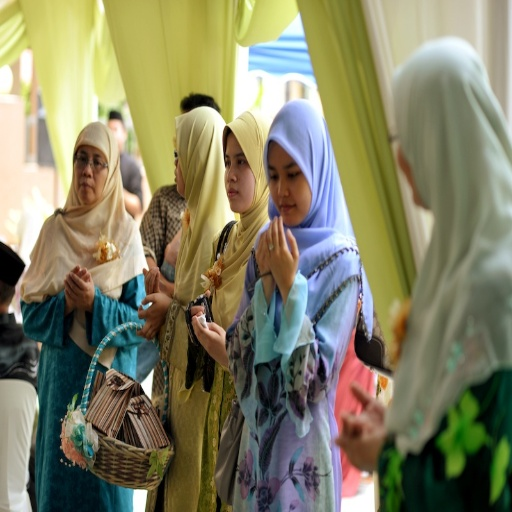hand: (339, 378, 387, 438), (333, 422, 387, 474), (133, 290, 172, 344), (191, 315, 228, 365), (254, 227, 277, 292), (62, 261, 92, 310), (64, 267, 97, 311), (184, 288, 211, 322), (141, 267, 161, 294)
